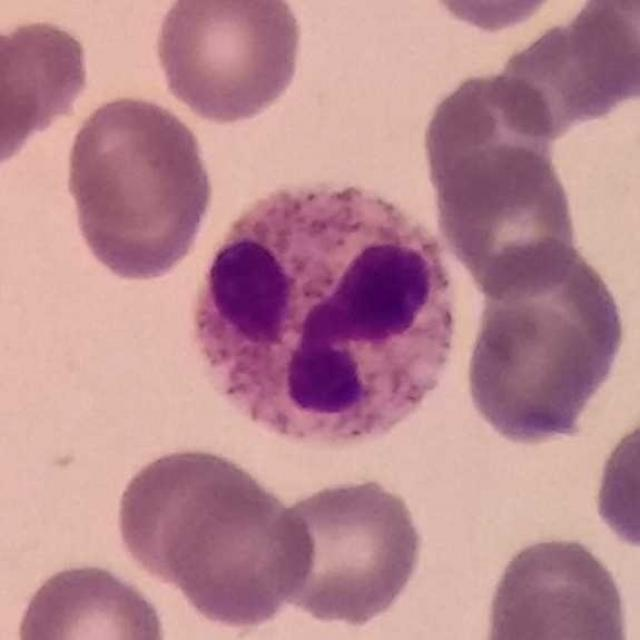Neutrophil: (177, 164, 471, 472)
RBC: (461, 236, 629, 445), (60, 89, 218, 284), (157, 462, 319, 630), (110, 442, 276, 591), (270, 473, 428, 627), (432, 142, 581, 300), (418, 66, 560, 212), (150, 0, 307, 125), (493, 8, 640, 141), (480, 530, 634, 639), (0, 12, 93, 165), (11, 556, 172, 640), (589, 403, 640, 556), (478, 590, 634, 640), (0, 12, 42, 183), (571, 0, 640, 102), (420, 0, 568, 35)
